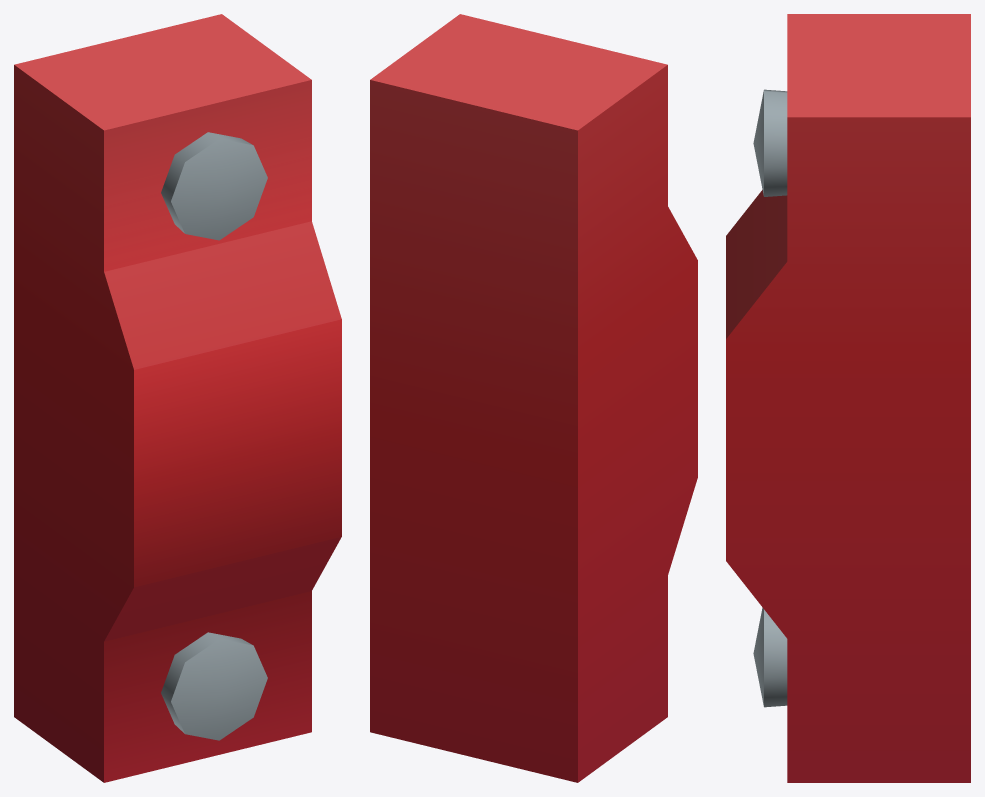
File: bracing_small_red.glb
3 renders of one model, left to right at view 1: azimuth 30°, elevation 25°; view 2: azimuth 150°, elevation 25°; view 3: azimuth 270°, elevation 25°, orthographic. The views are drawn at different scales.
Parts seen in each view (by area): view 1: bracing_small_red; view 2: bracing_small_red; view 3: bracing_small_red.
Part boxes in pixels (left/top/right/bottom): bracing_small_red: left=14, top=14, right=341, bottom=782; bracing_small_red: left=370, top=14, right=697, bottom=782; bracing_small_red: left=726, top=14, right=970, bottom=782.
Bounding box in the file's own units: 0.2 × 0.6 × 0.2.
1 material, 1 textured.
